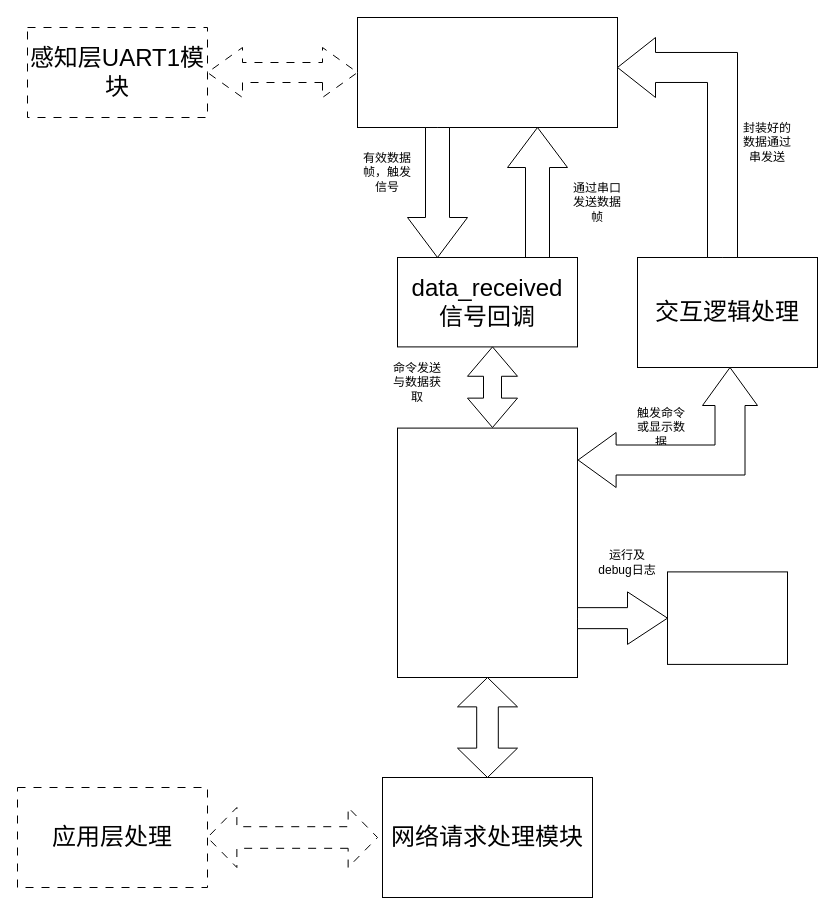
This 835x915 diagram has some shape labels left out. The centre of each missing label's shape, as x and y in pixels:
"QMainwindow" goes at (487,552).
"serialThread模块" goes at (487,72).
"日志模块" goes at (727,617).
